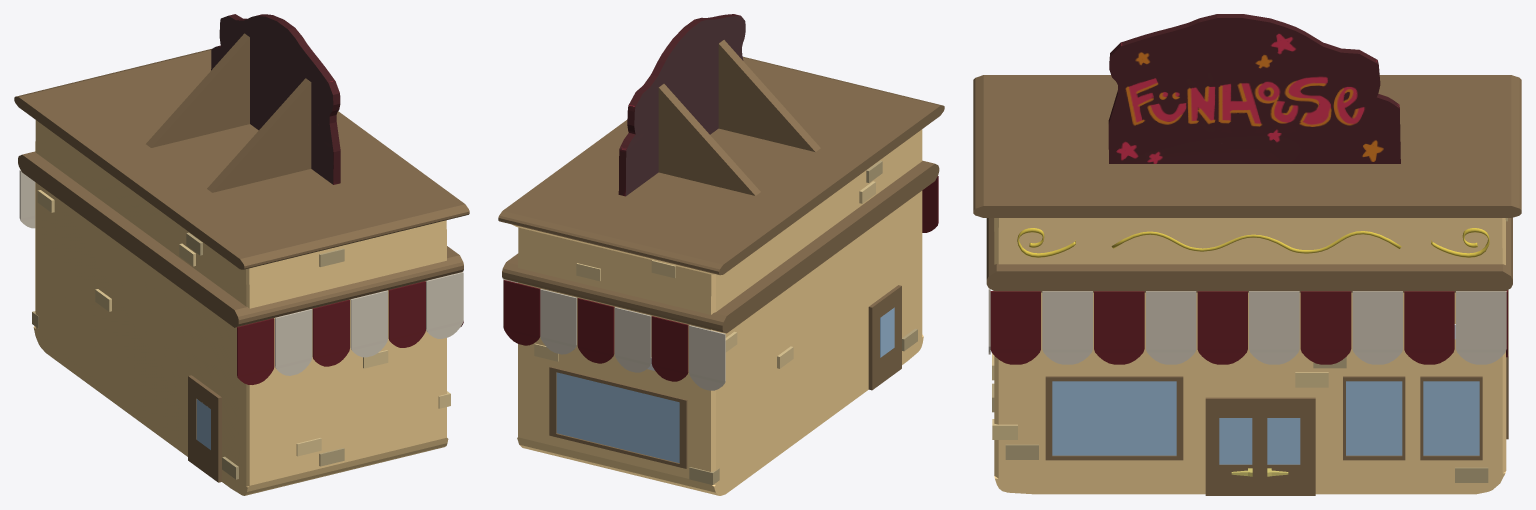
Rendered from FBX_Company1.fbx.
The picture shows the model from 3 angles, left to right: view 1: azimuth 30°, elevation 25°; view 2: azimuth 150°, elevation 25°; view 3: azimuth 270°, elevation 25°; orthographic projection. The views are drawn at different scales.
Parts seen in each view (by area): view 1: Cube.001, Cube.002, Cube.003, Cube.030, Cube.131, Cube.130, Cube.128, Cube.021, Cube.023, Cube.022, Cube.018, Cube.020 (+3 smaller); view 2: Cube.001, Cube.002, Cube.003, Cube.030, Cube.147, Cube.130, Cube.131, Cube.128, Cube.148, Cube.017, Cube.026, Cube.028 (+5 smaller); view 3: Cube.001, Cube.002, Cube.030, Cube.003, Cube.007, Cube.004, Cube.143, Cube.145, Cube.013, Cube.010, Cube.014, Cube.008 (+12 smaller).
Part boxes in pixels (x1,y1,x2,y2): Cube.001: (33, 120, 448, 495); Cube.002: (14, 49, 469, 269); Cube.003: (18, 151, 463, 327); Cube.030: (211, 14, 340, 184); Cube.131: (207, 78, 311, 192); Cube.130: (146, 33, 249, 147); Cube.128: (188, 375, 221, 482); Cube.021: (350, 290, 387, 357); Cube.023: (275, 309, 312, 375); Cube.022: (312, 300, 349, 366); Cube.018: (426, 272, 463, 338); Cube.020: (388, 281, 425, 347); Cube.001: (512, 129, 923, 495); Cube.002: (498, 56, 944, 275); Cube.003: (502, 160, 939, 333); Cube.030: (618, 14, 745, 196); Cube.147: (556, 372, 679, 462); Cube.130: (658, 84, 760, 195); Cube.131: (718, 40, 820, 151); Cube.128: (868, 285, 901, 390); Cube.148: (549, 366, 687, 468); Cube.017: (503, 280, 540, 345); Cube.026: (577, 298, 614, 363); Cube.028: (651, 316, 688, 381); Cube.001: (994, 218, 1506, 494); Cube.002: (973, 75, 1521, 217); Cube.030: (1108, 14, 1400, 163); Cube.003: (986, 217, 1512, 292); Cube.007: (1052, 381, 1176, 455); Cube.004: (1205, 397, 1315, 495); Cube.143: (1346, 381, 1402, 455); Cube.145: (1423, 381, 1479, 455); Cube.013: (1300, 291, 1351, 364); Cube.010: (1146, 291, 1196, 364); Cube.014: (1352, 291, 1402, 364); Cube.008: (1042, 291, 1092, 364).
Size of the model in its own units: 2.26 by 3.97 by 3.53.
